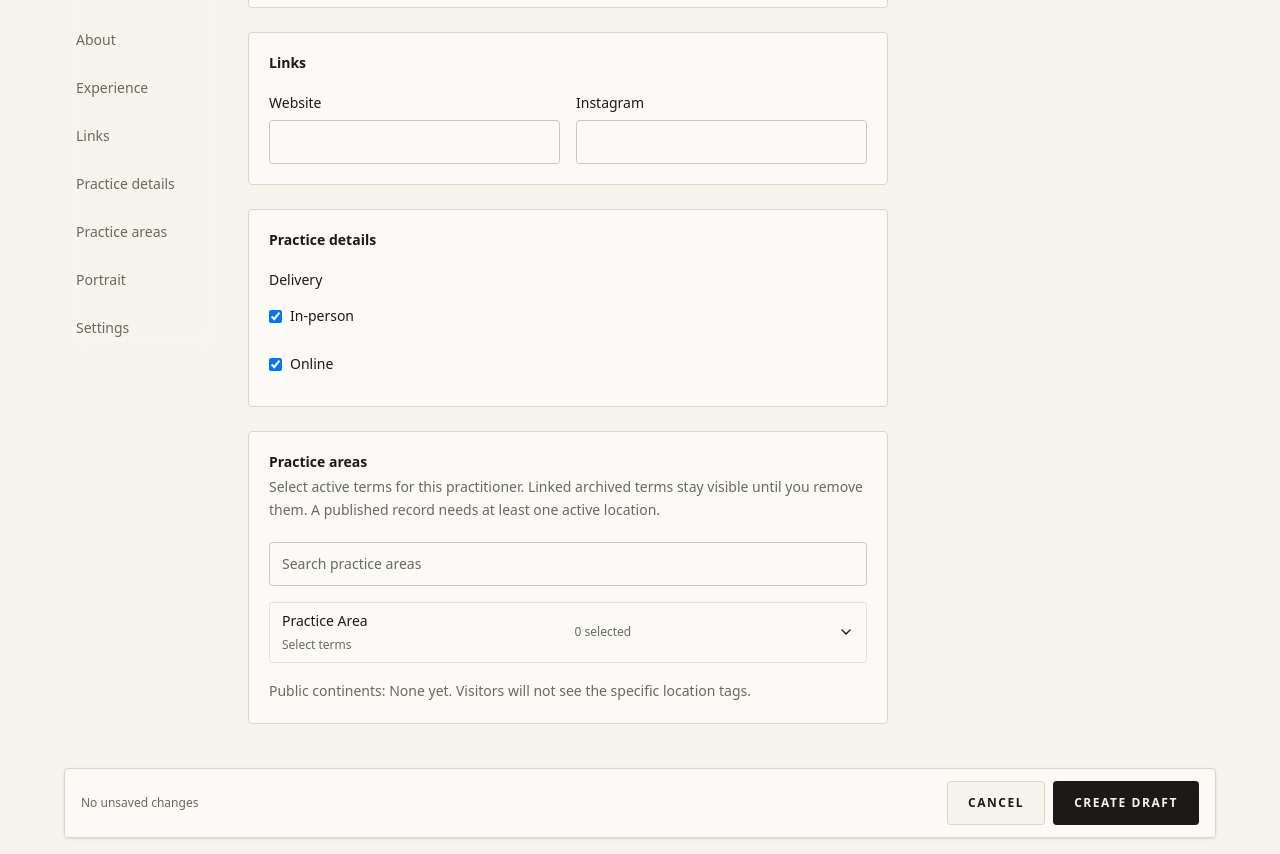
Test: practitioner draft workflow › reports when no practice areas match a search
The image size is (1280, 854).
(page scrolled)
Type "yoga" into the search field labelled "Search practice areas" at (568, 564), box [269, 542, 867, 586]
(page scrolled)
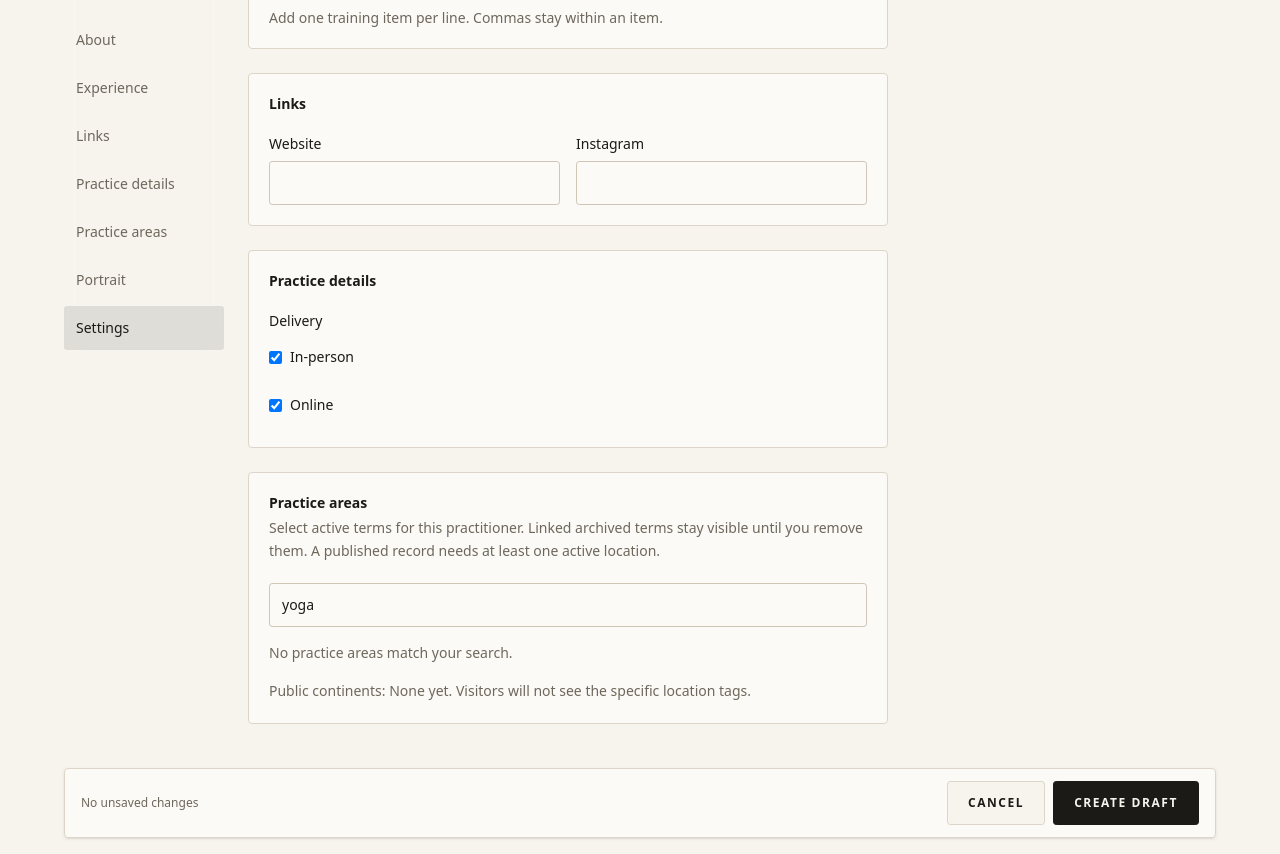
Check: the text "No practice areas match your search." is shown, box [269, 642, 513, 662]
